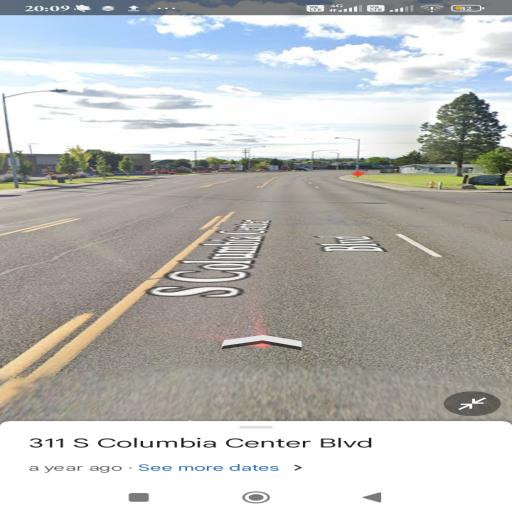Roads: (151, 167, 512, 416), (16, 192, 272, 424)
Trees: (400, 87, 512, 185)
